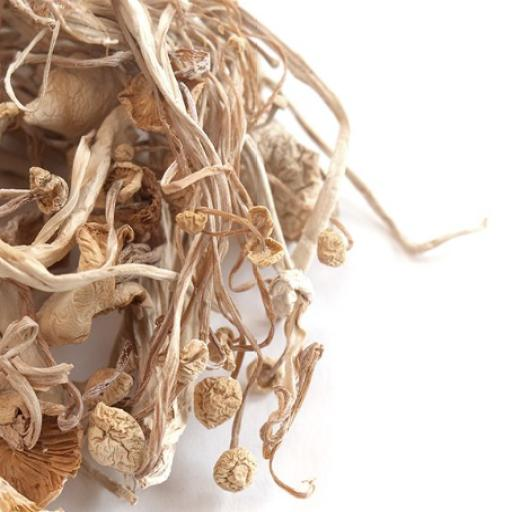Enoki Mushroom: (14, 7, 356, 504)
